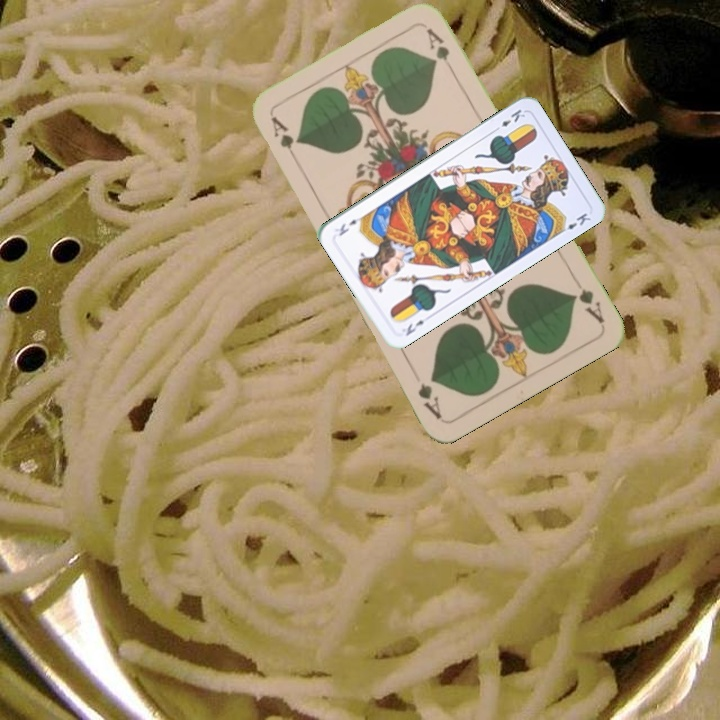EK: (490, 105, 528, 134), (401, 316, 427, 339)
GA: (266, 112, 302, 167), (568, 285, 607, 327)
